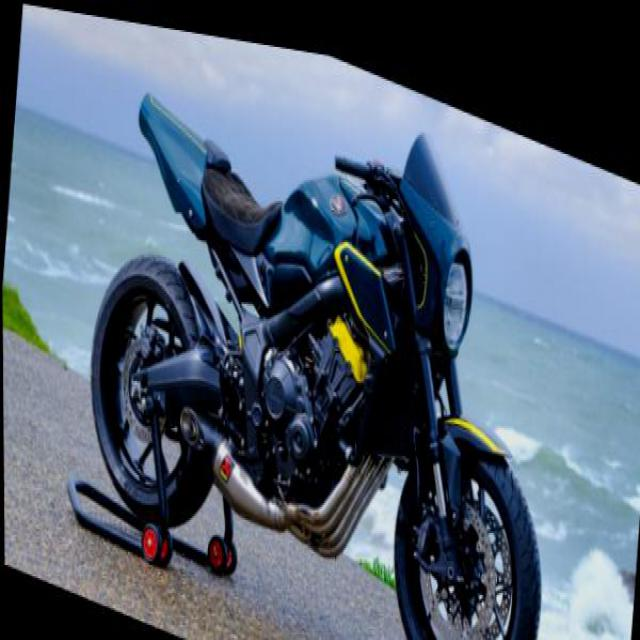CB650R: (69, 8, 577, 638)
